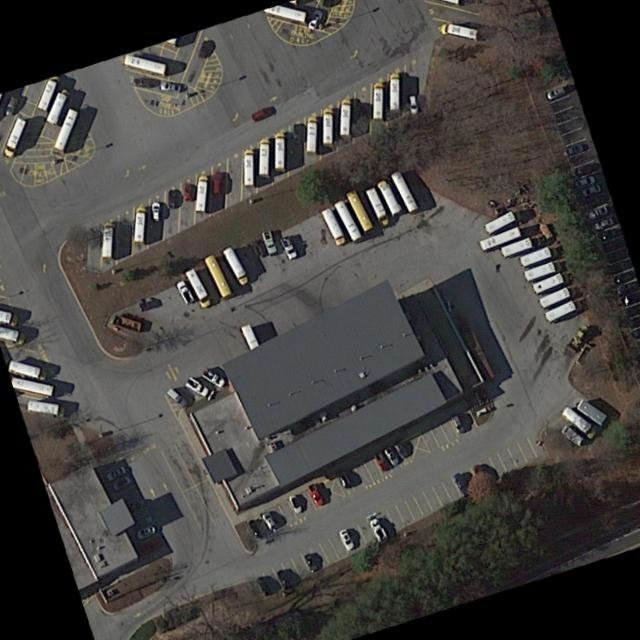large-vehicle: (51, 107, 80, 158), (201, 253, 232, 299), (331, 197, 361, 243), (560, 405, 597, 441), (344, 188, 374, 232), (0, 116, 30, 160), (181, 267, 212, 309), (42, 86, 72, 129), (4, 356, 50, 384), (218, 245, 248, 287), (476, 225, 521, 253), (573, 394, 609, 429), (120, 52, 168, 78), (390, 171, 418, 214), (436, 19, 480, 44), (319, 205, 345, 247), (375, 179, 402, 218), (365, 187, 390, 228), (25, 398, 66, 421), (482, 209, 516, 236), (517, 245, 553, 267), (521, 260, 554, 284), (537, 287, 571, 310), (544, 300, 576, 324), (531, 273, 564, 296), (499, 237, 532, 259), (238, 322, 259, 351), (193, 175, 209, 213), (255, 138, 269, 180), (337, 98, 352, 137), (132, 204, 145, 247), (272, 133, 285, 174), (386, 72, 398, 114), (241, 149, 254, 187), (100, 223, 113, 260), (305, 116, 317, 156), (372, 81, 383, 122), (321, 109, 332, 149), (427, 0, 460, 7)
small-vehicle: (181, 372, 215, 404), (197, 364, 229, 391), (191, 34, 218, 65), (133, 535, 162, 560), (600, 257, 632, 279), (365, 514, 388, 544), (559, 423, 585, 449), (173, 277, 195, 307), (608, 279, 639, 300), (162, 386, 189, 410), (596, 248, 629, 267), (594, 236, 624, 256), (131, 523, 158, 545), (450, 470, 471, 498), (608, 269, 637, 289), (582, 201, 608, 223), (335, 525, 354, 554), (303, 6, 324, 32), (562, 139, 588, 160), (247, 104, 274, 124), (571, 159, 597, 179), (102, 462, 126, 483), (616, 289, 640, 310), (589, 215, 616, 233), (0, 93, 20, 117), (370, 448, 389, 473), (578, 183, 604, 201), (593, 227, 619, 245), (130, 512, 156, 530), (617, 302, 640, 321), (381, 445, 400, 468), (305, 483, 323, 507), (146, 199, 162, 225), (259, 510, 277, 533), (110, 474, 132, 492), (254, 575, 271, 598), (621, 311, 640, 331), (392, 440, 410, 461), (302, 552, 319, 574), (124, 496, 146, 513), (574, 174, 597, 190), (158, 80, 182, 95), (247, 518, 262, 542), (275, 569, 292, 590), (448, 413, 464, 435), (131, 76, 154, 91), (121, 487, 141, 504), (211, 172, 224, 198), (286, 494, 302, 515), (165, 188, 180, 210), (179, 181, 194, 202), (544, 85, 563, 101), (406, 92, 418, 117), (625, 326, 640, 344), (336, 469, 350, 488), (629, 337, 640, 354), (631, 352, 640, 367)
